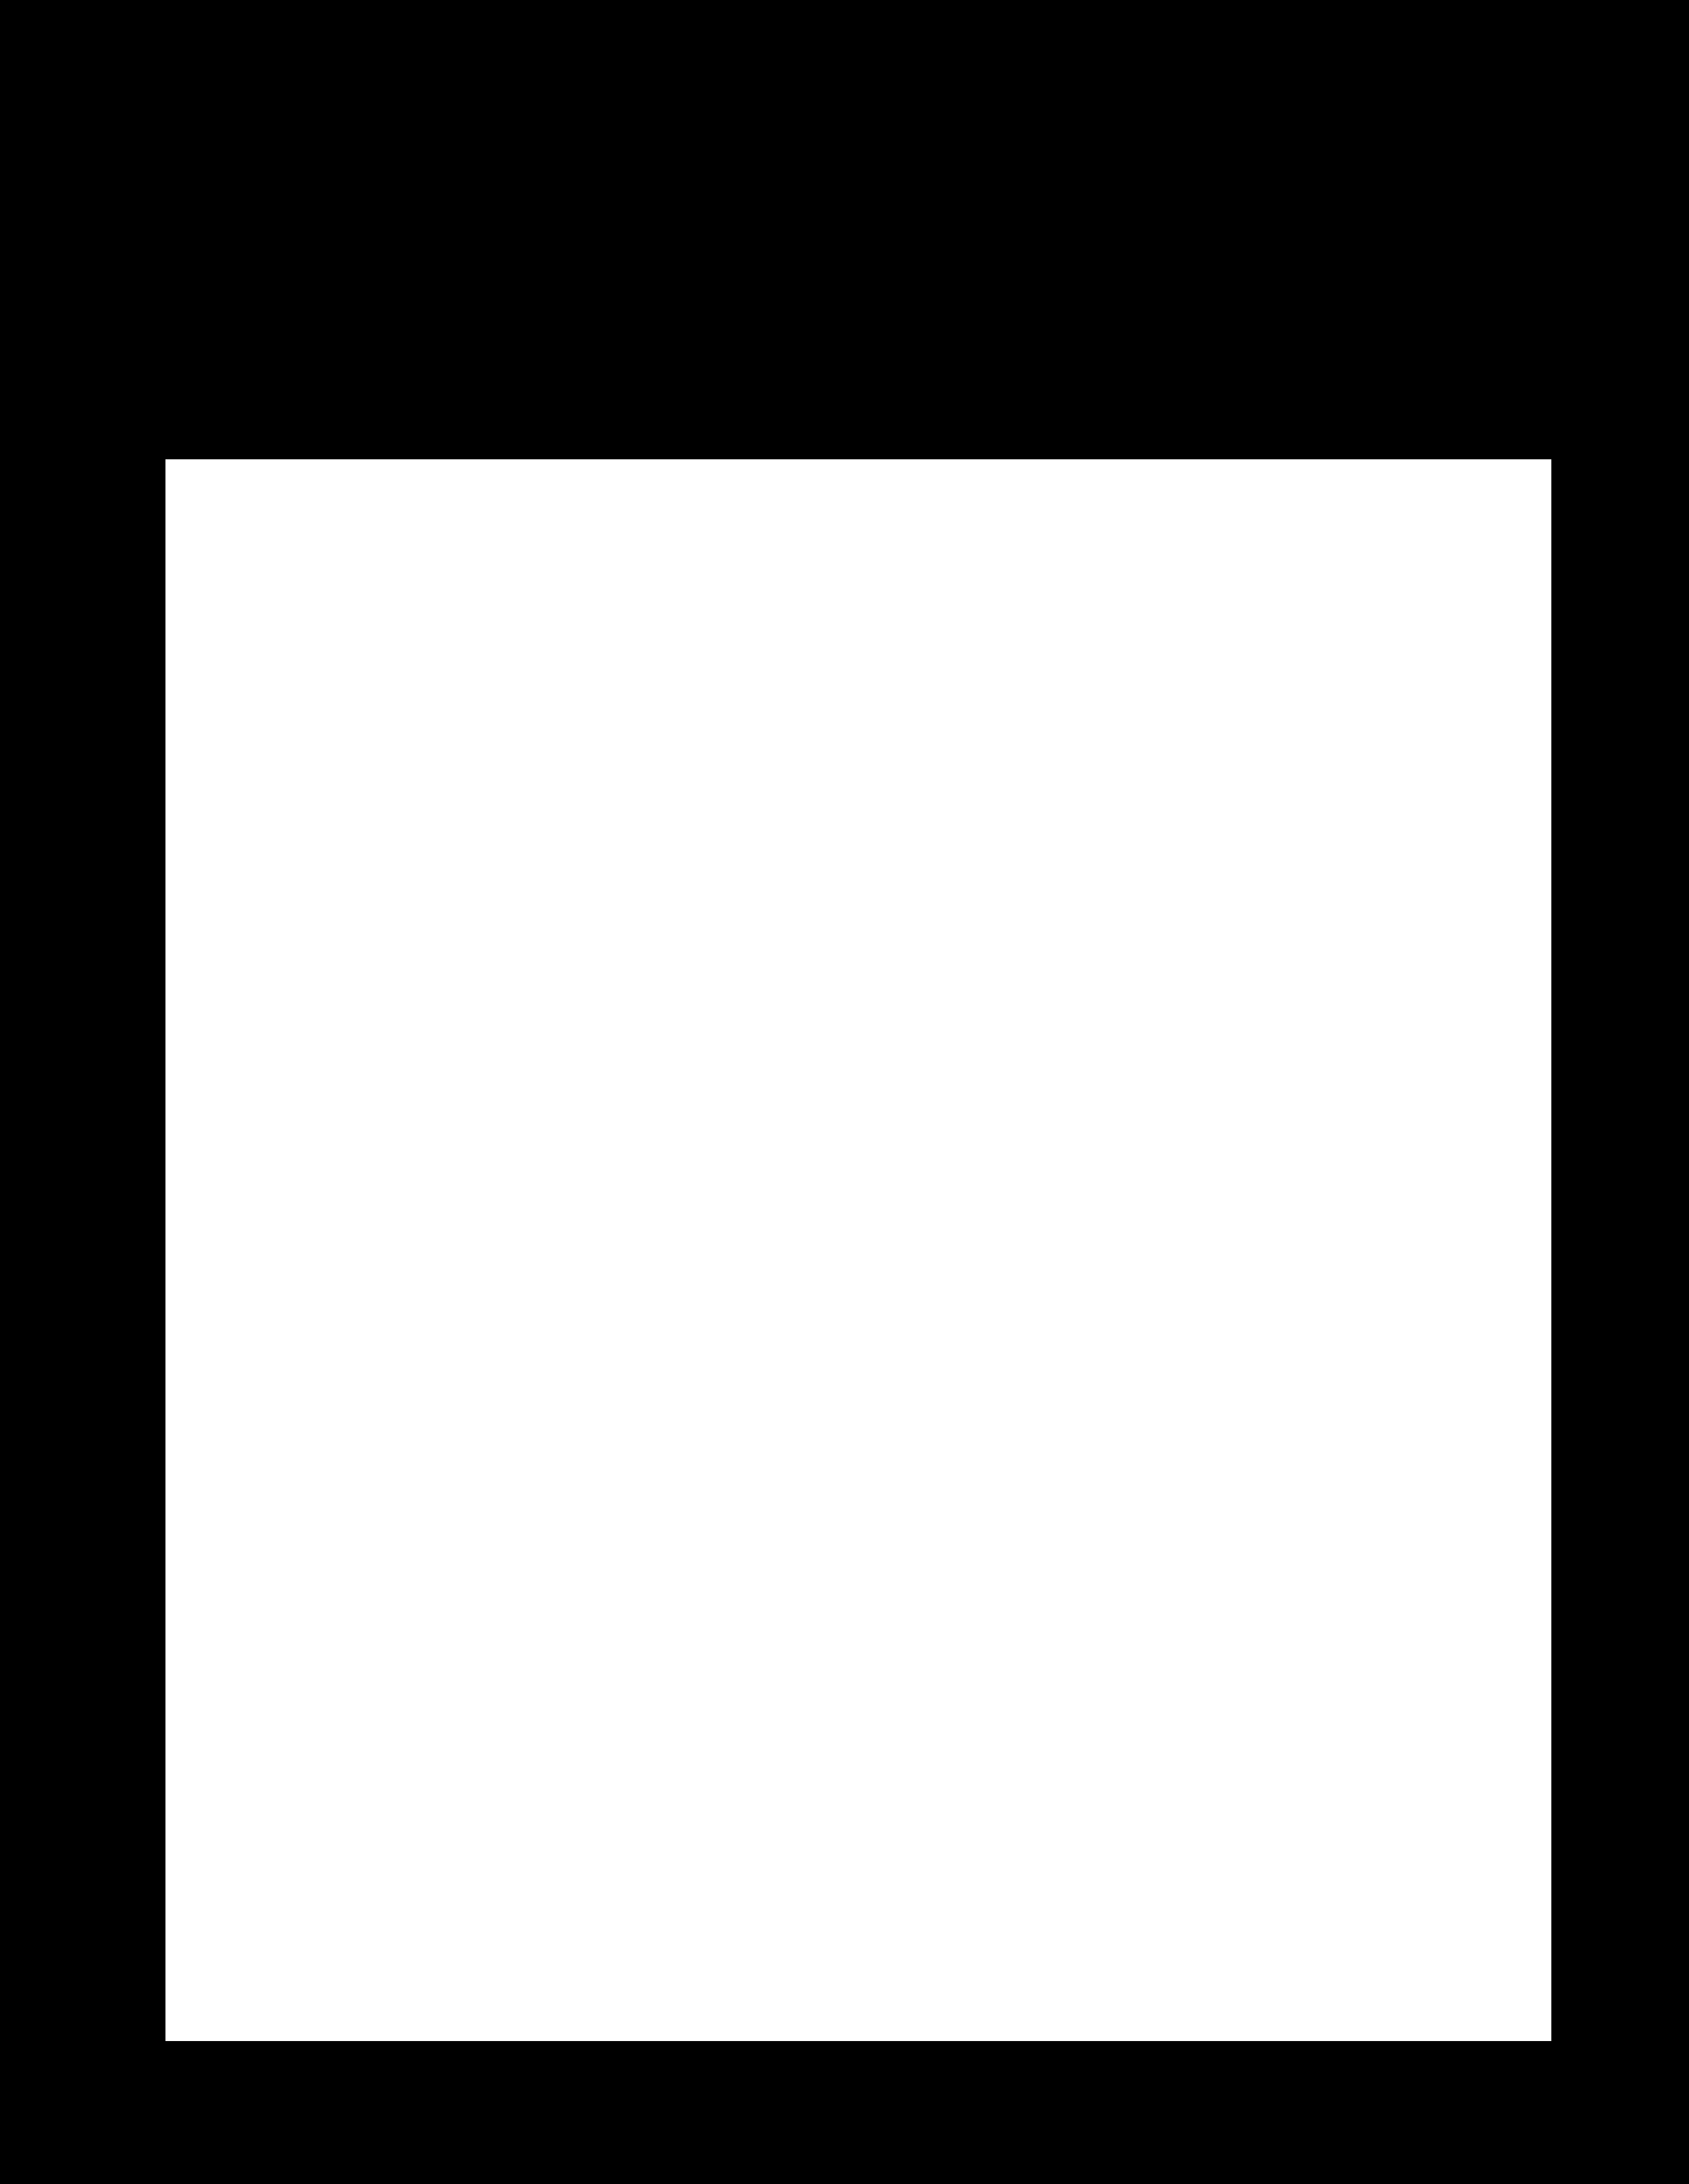table: (165, 459, 1551, 2040)
